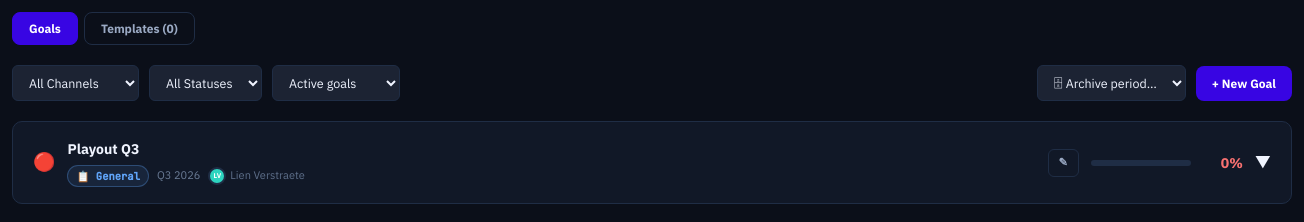
Test: GoalsPage — period archive › hides archived goals by default and shows them, read-only, under the archived filter
The width and height of the screenshot is (1304, 222).
Check: the text "Playout Q3" is shown, box [68,138,139,161]
Check: the text "Playout Q2" is not shown
Select "Archived goals" in the dropdown named "Show active or archived goals": point(336, 83) [272,65,400,101]
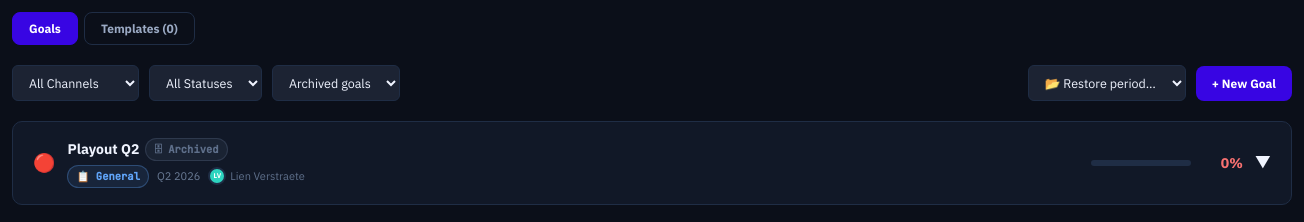
Check: the text "Playout Q2" is shown, box [68,138,139,161]
Check: the text "Playout Q3" is gone
